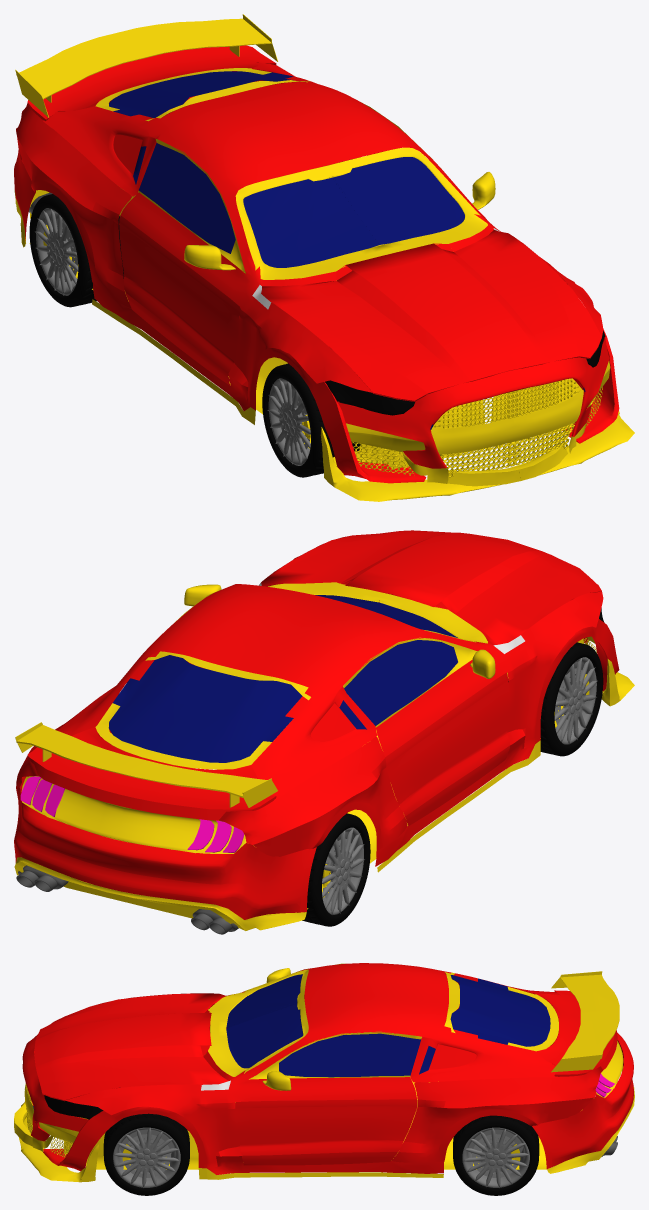
The model's file is mustang.gltf.
3 renders of one model, top to bottom at view 1: azimuth 30°, elevation 25°; view 2: azimuth 150°, elevation 25°; view 3: azimuth 270°, elevation 25°, orthographic. The views are drawn at different scales.
Visible parts, largest first — view 1: hood.002; view 2: hood.002; view 3: hood.002.
Part boxes in pixels (bbox=[...]): hood.002: bbox=[14, 14, 634, 501]; hood.002: bbox=[14, 530, 634, 934]; hood.002: bbox=[14, 963, 634, 1195].
Size of the model in its own units: 1.41 by 0.9203 by 3.29.
